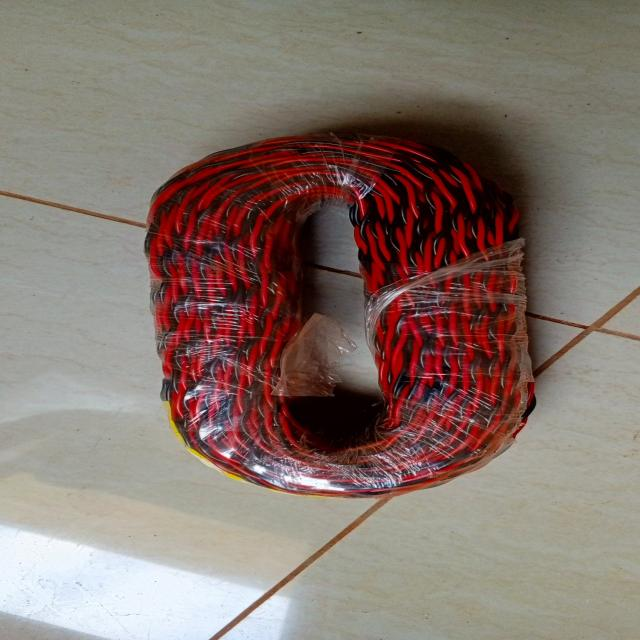Connecting Wires: (116, 128, 540, 497)
